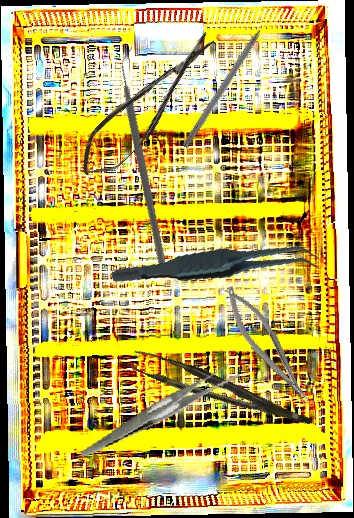Chopper: (38, 46, 256, 268)
Dressing Forceps: (69, 361, 250, 457)
Hook Surgical: (181, 11, 276, 150)
Micro Scissor: (67, 25, 230, 187)
Needle Holder: (216, 278, 318, 416)
Tissue Forceps: (126, 338, 312, 447), (110, 223, 322, 308)
